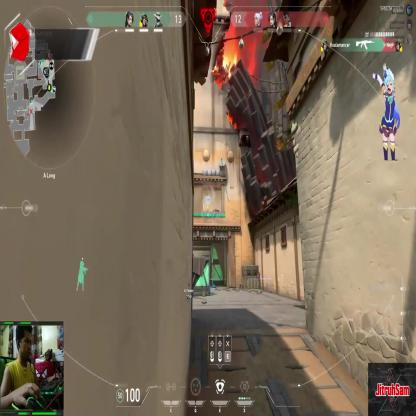enemy: (205, 205, 210, 228)
enemy_head: (206, 208, 209, 212)
